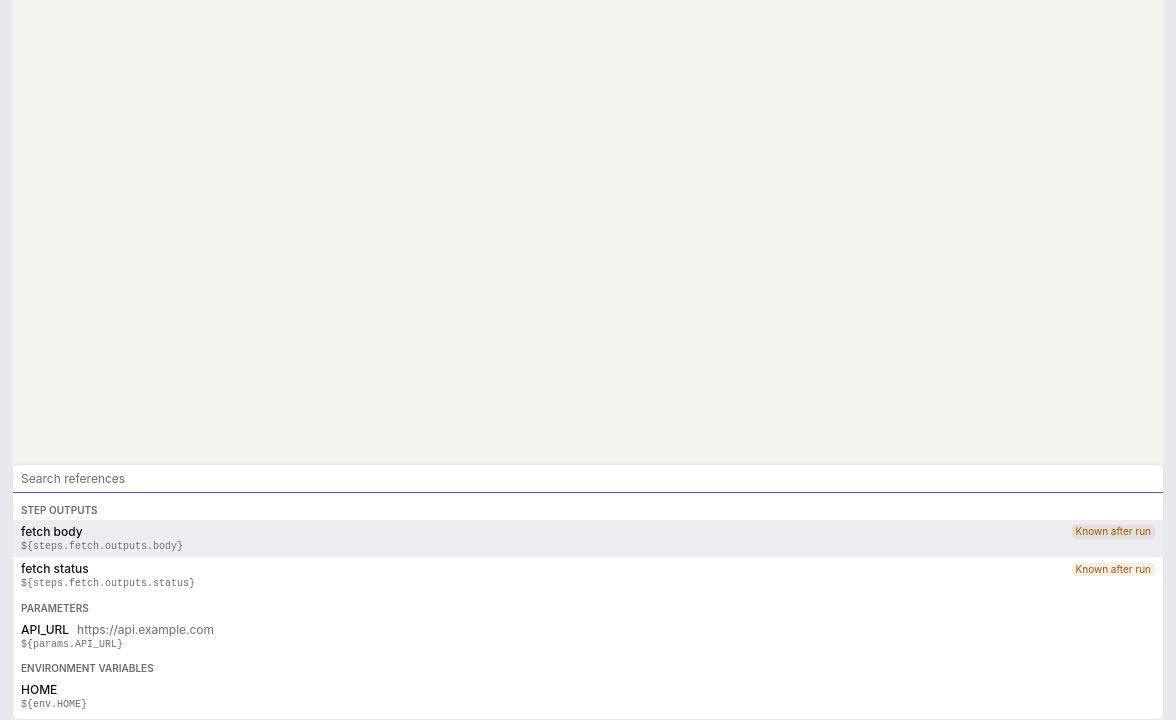
Test: ReferencePicker › filters the options with the search box and focuses it
The width and height of the screenshot is (1176, 720).
(page scrolled)
Type "status" into the field labelled "Search references" at (588, 479), box [13,465,1163,493]
(page scrolled)
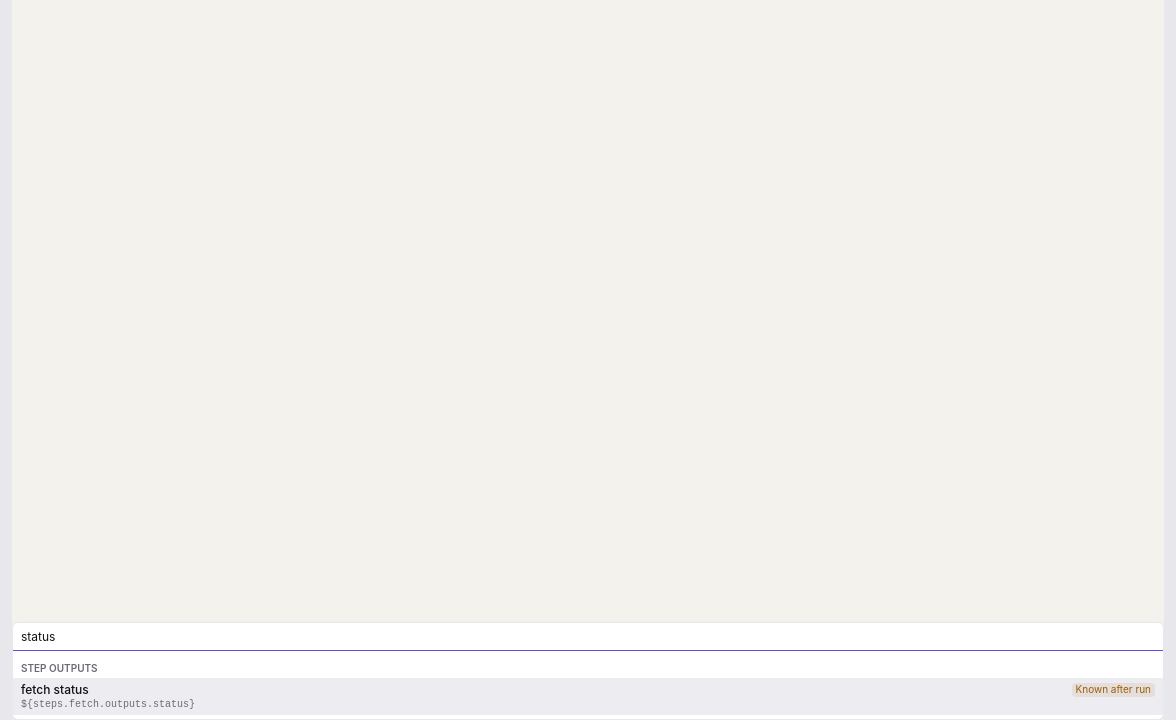
Expected: the option shows "fetch status", [13,678,1163,715]
Expected: the number of options is 1, [13,678,1163,715]
Expected: the text "Parameters" is gone
